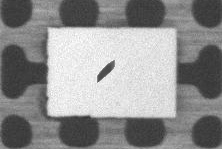DIE_INK: (96, 58, 115, 83)
